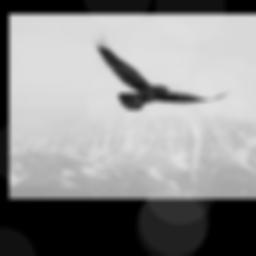Crow: (93, 33, 231, 111)
